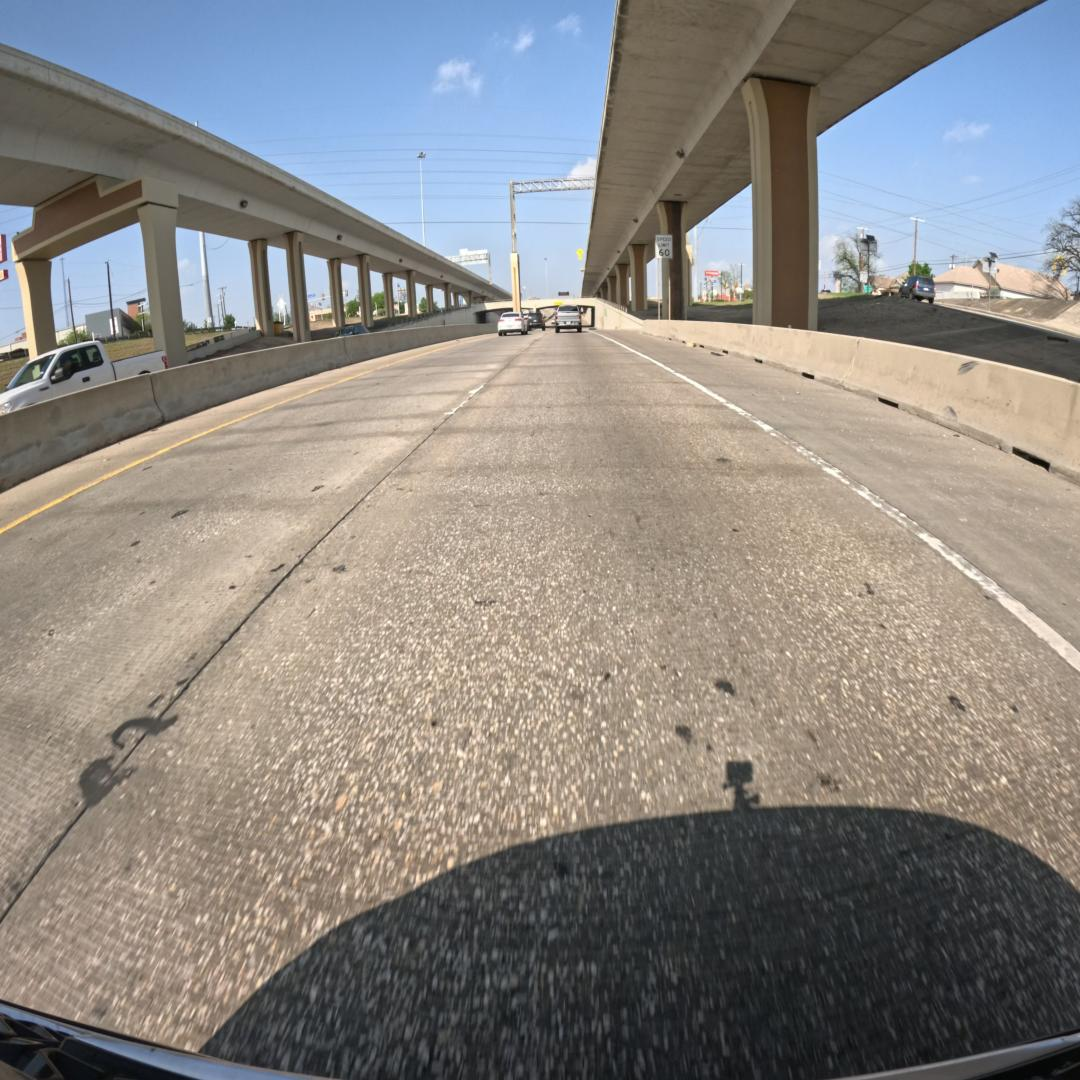lane0: (0, 335, 1080, 1077)
lane1: (0, 335, 533, 919)
